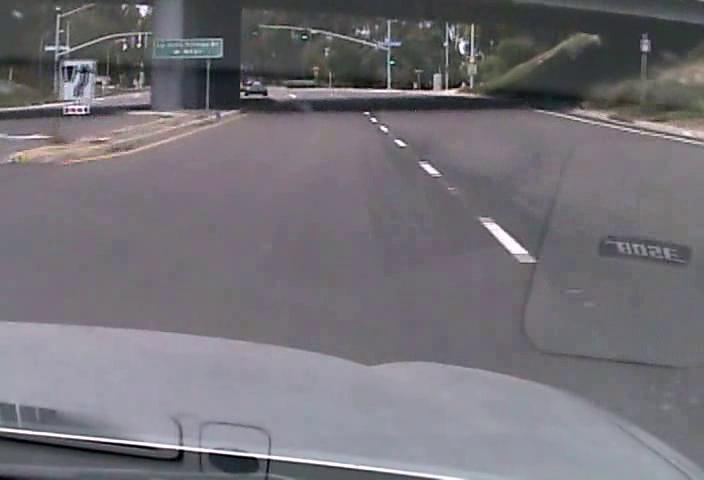keepRight: (59, 58, 95, 102)
